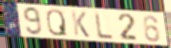2: (117, 13, 139, 42)
6: (142, 14, 161, 43)
9: (21, 5, 44, 37)
K: (70, 10, 91, 39)
L: (93, 11, 115, 40)
Q: (45, 8, 69, 38)
